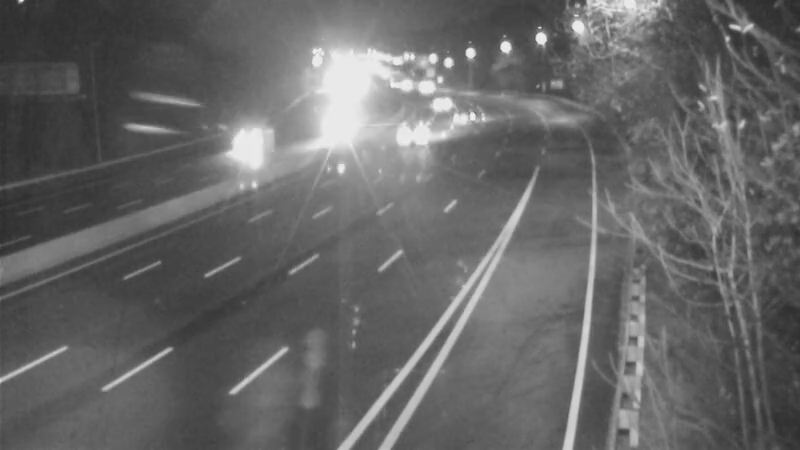vehicle: (416, 78, 466, 128), (434, 93, 484, 143), (405, 101, 455, 151), (218, 119, 268, 169), (301, 110, 351, 160)
